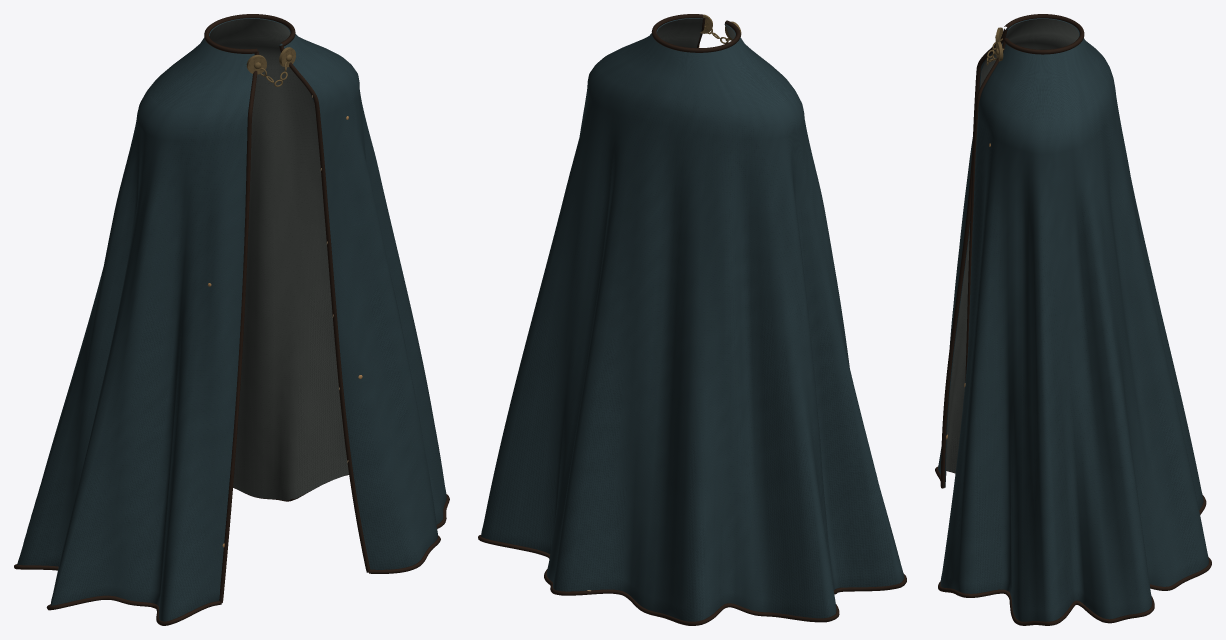
3 renders of one model, left to right at view 1: azimuth 30°, elevation 25°; view 2: azimuth 150°, elevation 25°; view 3: azimuth 270°, elevation 25°, orthographic. The views are drawn at different scales.
Parts seen in each view (by area): view 1: woven wool, brushed wool lining, oiled strap leather, aged alloy edge; view 2: woven wool, oiled strap leather, brushed wool lining; view 3: woven wool, oiled strap leather, brushed wool lining.
Part boxes in pixels (x1,y1,x2,y2): woven wool: (17,18,446,621); brushed wool lining: (209,18,348,500); oiled strap leather: (14,14,449,625); aged alloy edge: (246,47,295,86); woven wool: (481,17,904,621); oiled strap leather: (478,14,906,625); brushed wool lining: (657,18,735,47); woven wool: (938,18,1208,621); oiled strap leather: (935,14,1211,625); brushed wool lining: (945,19,1078,481).
Bounding box in the file's own units: 0.8505 × 1.07 × 0.516.
6 materials, 4 textured.
